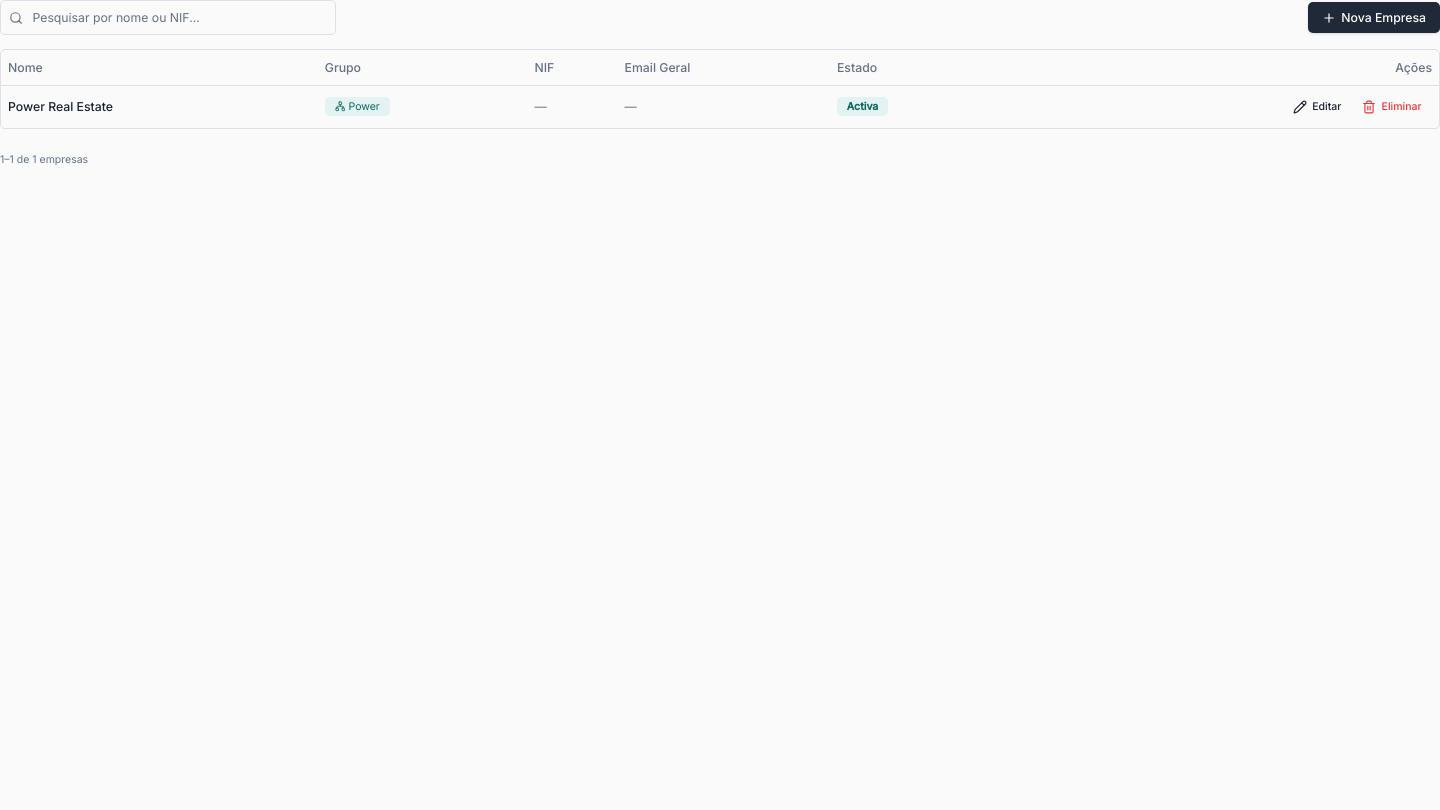
Test: CompaniesAdminTab — o que só o Master faz › o Master vê o campo da rede ao editar
Click the button with test id "btn-edit-company-c1": point(1317, 106) [1282,92,1352,120]
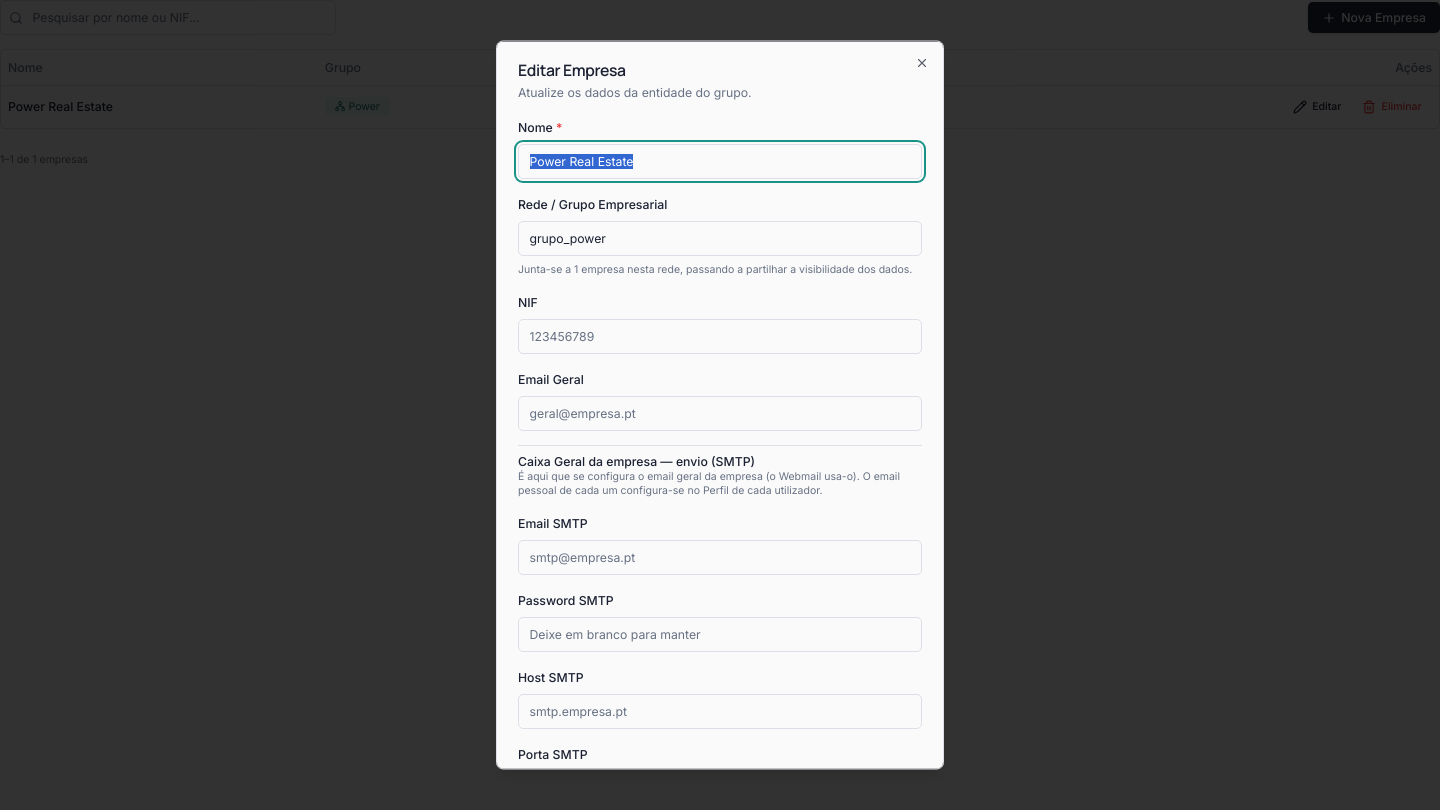
Result: the field with test id "company-network-input" is shown at [518,220,922,255]
